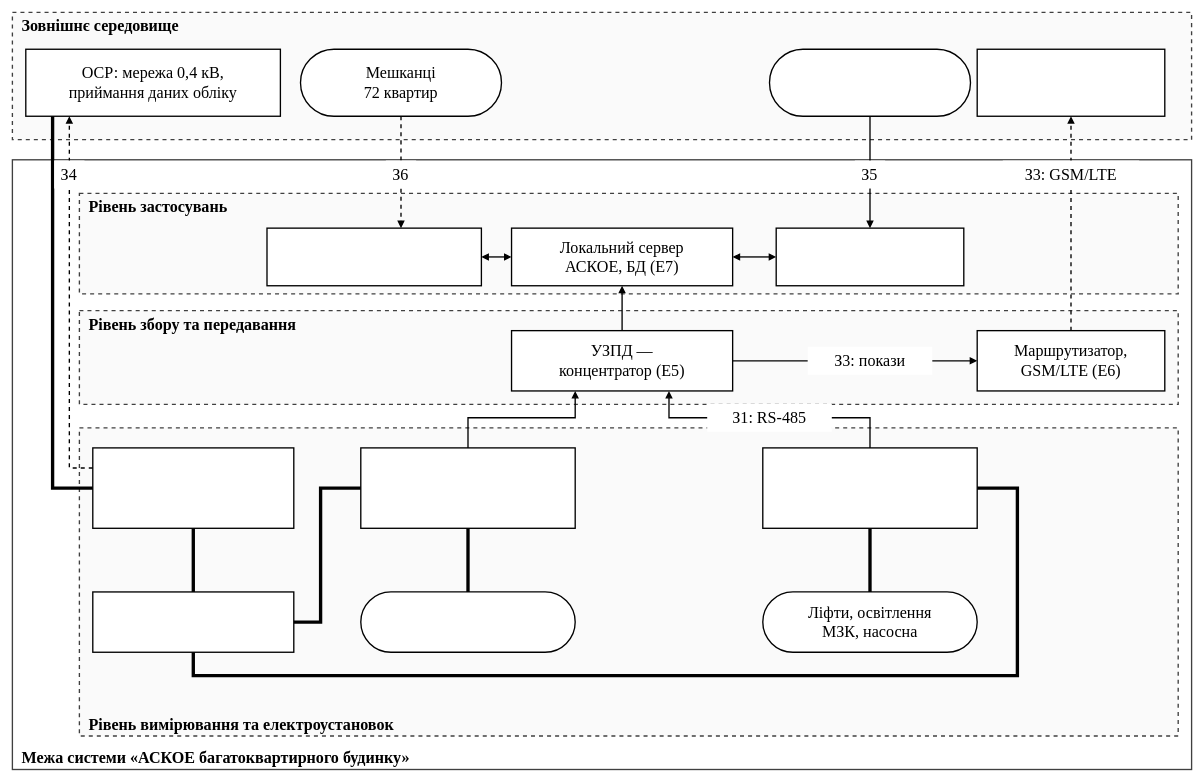
Some shapes in this 1203 by 781 pixel diagram are drawn without their labels. The centre of each missing label's shape, as x and y in pixels:
"АРМ управителя ОСББ (Е8)" goes at (869,256).
"Ввідний 3-фазний лічильник у ВРП (Е3)" goes at (193,488).
"Електроустановки 72 квартир" goes at (468,622).
"Загальнобудинкові лічильники × 3 (Е2)" goes at (870,488).
"Застосунок мешканця (Е9)" goes at (374,256).
"Квартирні лічильники × 72 з реле (Е1, Е4)" goes at (468,488).
"Мобільний оператор → ППКО" goes at (1070,82).
"Управитель (правління ОСББ)" goes at (869,82).
"Шини 0,4 кВ ВРП будинку" goes at (193,622).
